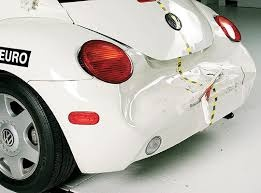Broken-glass: (100, 42, 254, 123), (163, 2, 197, 38)
